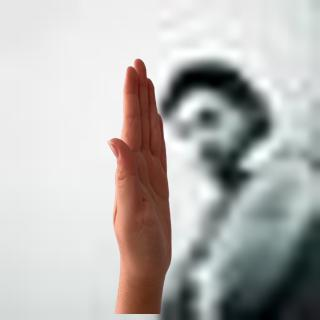Right: (100, 56, 188, 293)
